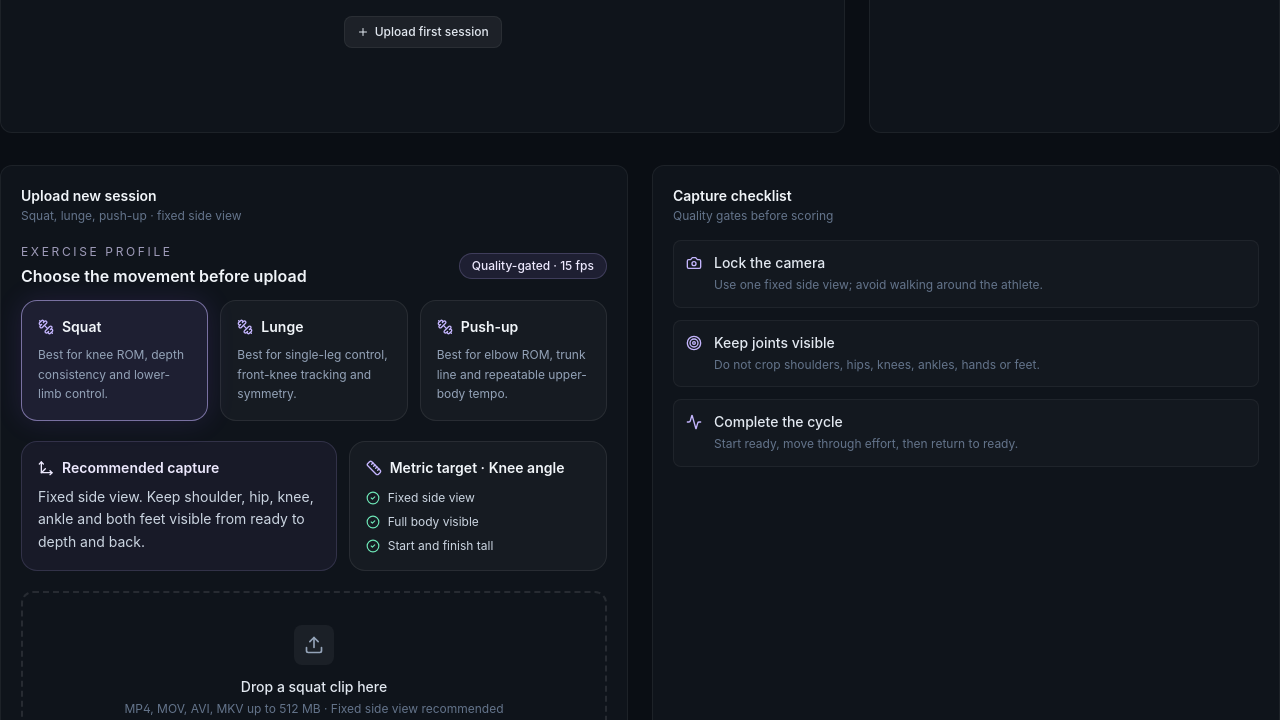
Scenario: DrylandPage › renders exercise selection before upload
This screenshot has width=1280, height=720.
(page scrolled)
Click the button with aria-label "select push-up" at coordinates (513, 360), box [420,300,607,420]
(page scrolled)
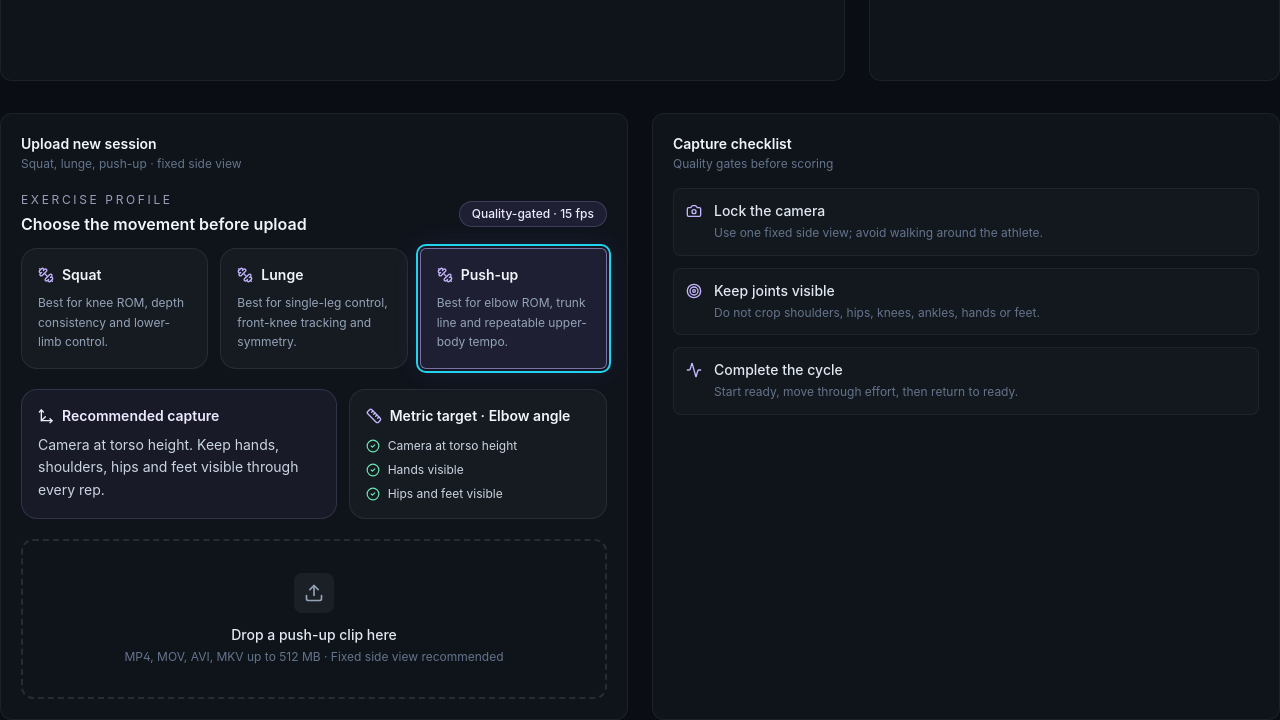
Expected: the text "Camera at torso height" is shown, [38,436,298,498]
Expected: the button with aria-label "upload push-up dryland video" is shown, [21,539,607,699]
